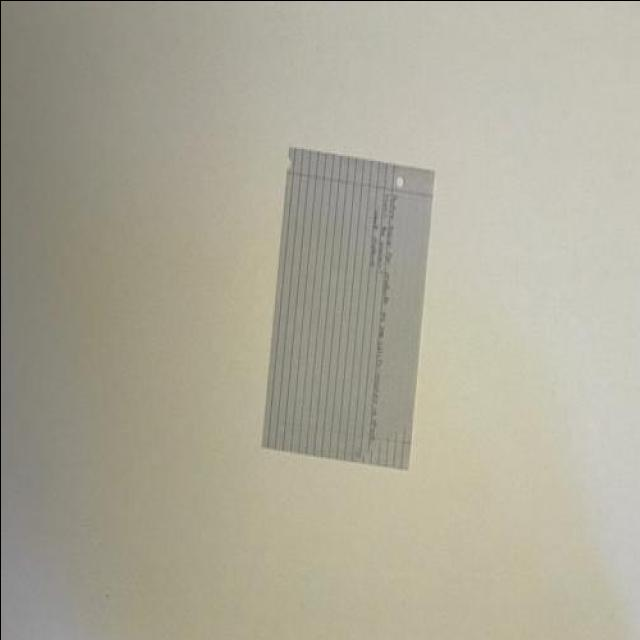kertas: (259, 147, 435, 472)
